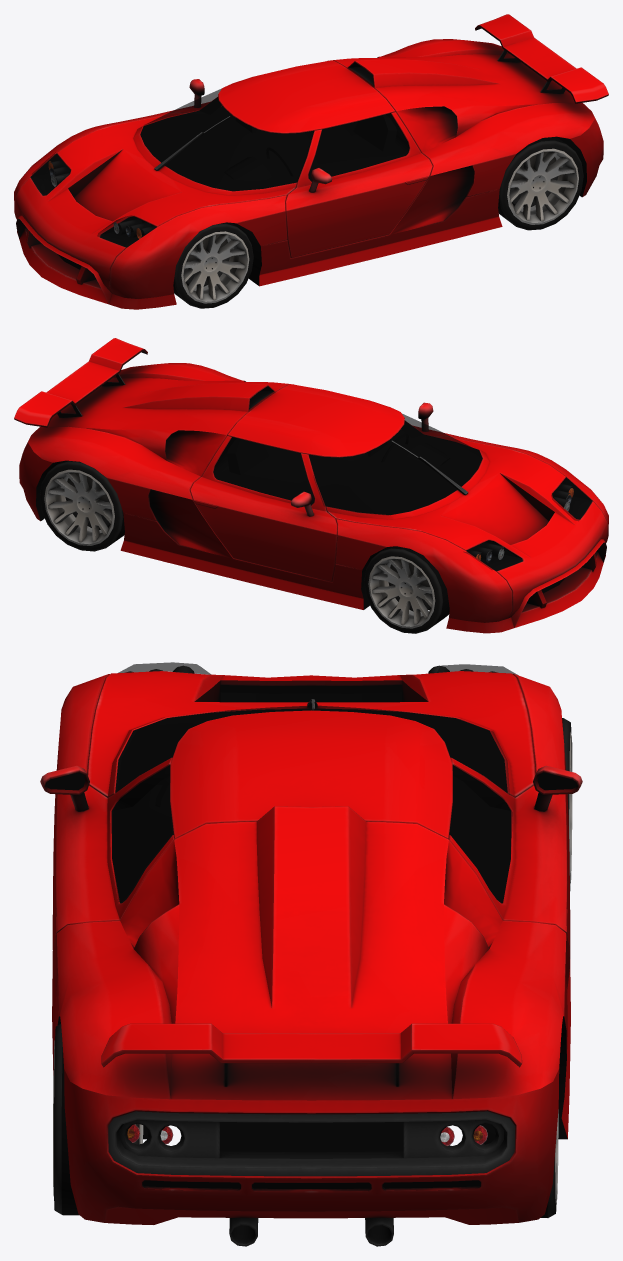
The model's file is sport.glb.
The picture shows the model from 3 angles, top to bottom: view 1: azimuth 30°, elevation 25°; view 2: azimuth 150°, elevation 25°; view 3: azimuth 270°, elevation 25°; orthographic projection. The views are drawn at different scales.
Parts seen in each view (by area): view 1: Sport body_Body_0.001, Sport body_Glass_0.001, Wheel_H001_Wheel_0.001, Wheel_H_Wheel_0.001; view 2: Sport body_Body_0.001, Sport body_Glass_0.001, Wheel_H003_Wheel_0.001, Wheel_H002_Wheel_0.001; view 3: Sport body_Body_0.001, Sport body_Glass_0.001, Wheel_H001_Wheel_0.001, Sport body_Optics_0.001, Wheel_H002_Wheel_0.001.
Boxes of the visible parts, box(x1,y1,x2,y2) form: Sport body_Body_0.001: box(14, 14, 608, 309); Sport body_Glass_0.001: box(31, 88, 408, 246); Wheel_H001_Wheel_0.001: box(498, 136, 583, 230); Wheel_H_Wheel_0.001: box(173, 222, 253, 308); Sport body_Body_0.001: box(14, 338, 608, 633); Sport body_Glass_0.001: box(214, 414, 591, 570); Wheel_H003_Wheel_0.001: box(40, 460, 124, 551); Wheel_H002_Wheel_0.001: box(364, 546, 449, 633); Sport body_Body_0.001: box(40, 665, 582, 1246); Sport body_Glass_0.001: box(112, 662, 517, 902); Wheel_H001_Wheel_0.001: box(53, 1024, 143, 1215); Sport body_Optics_0.001: box(127, 1124, 487, 1145); Wheel_H002_Wheel_0.001: box(562, 718, 572, 890).
Size of the model in its own units: 3.91 by 1.04 by 1.77.
Materials: 4 (3 with a texture image).
